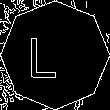L_N: (40, 30, 70, 80)
